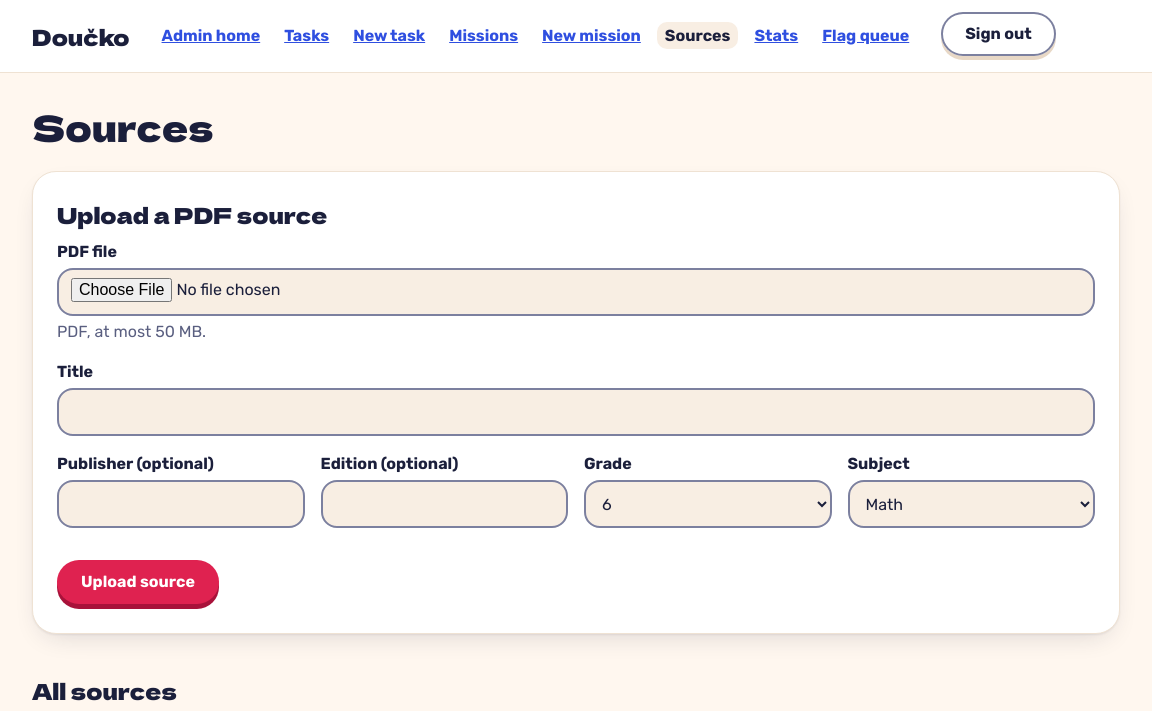
upload (FR-1) › asks for a file before sending anything
Type "Matematika 6 – pracovní sešit" into the field labelled "Title" at (576, 412), box top-left (57, 388), bottom-right (1095, 436)
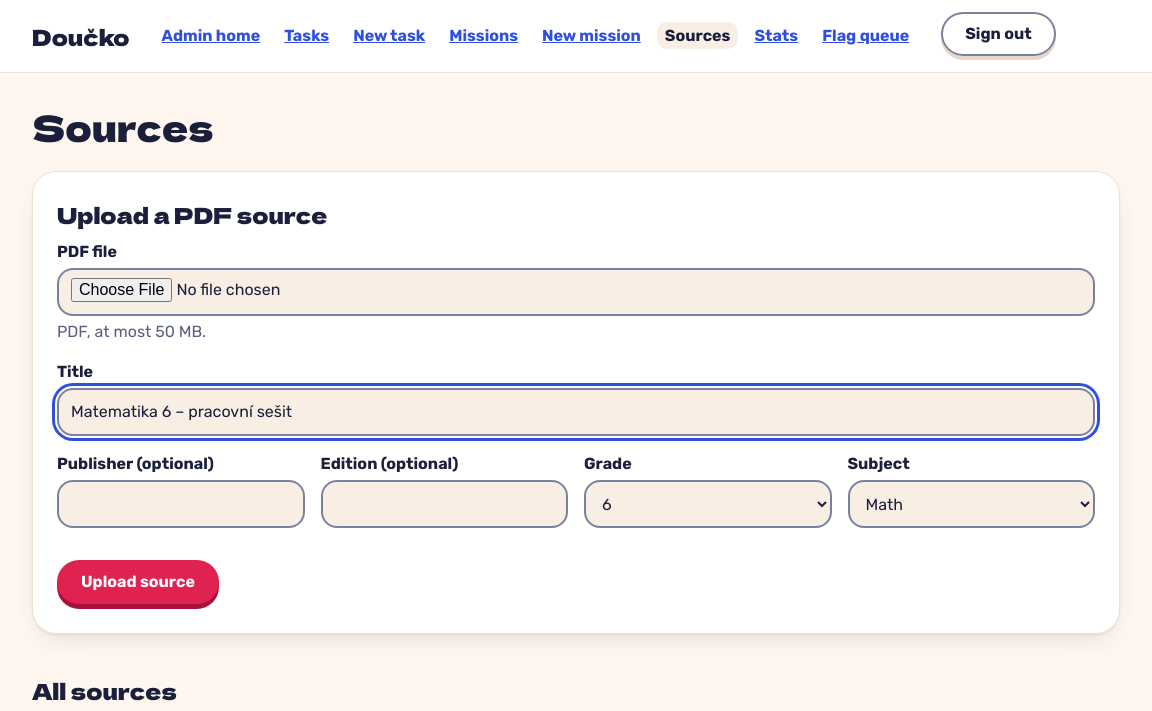
Click the button "Upload source" at (138, 582), box top-left (57, 560), bottom-right (219, 604)
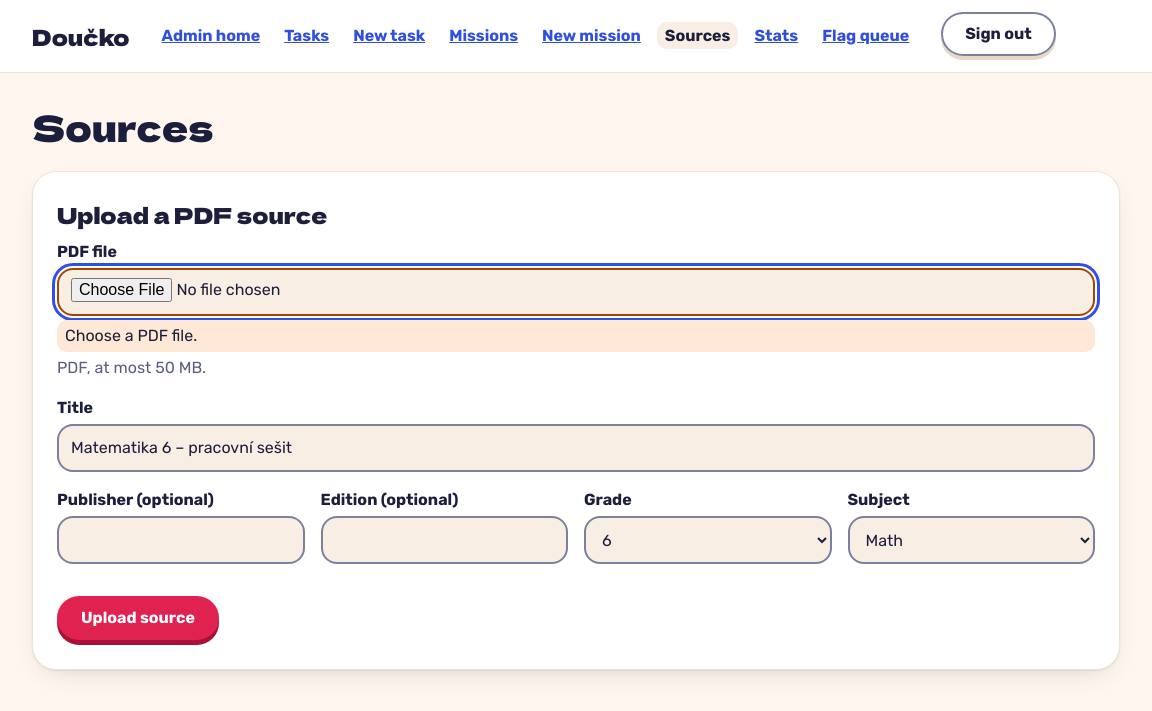
Now the text "Choose a PDF file." is shown, box top-left (57, 320), bottom-right (1095, 352)
